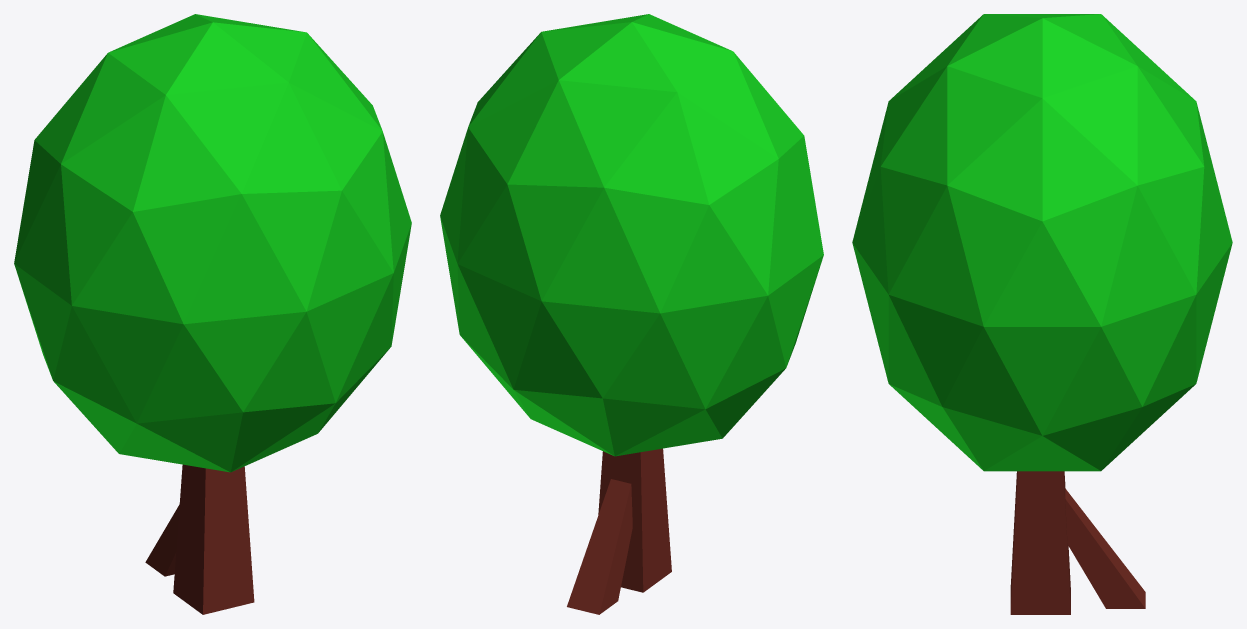
Rendered from tree_2.fbx.
The picture shows the model from 3 angles, left to right: view 1: azimuth 30°, elevation 25°; view 2: azimuth 150°, elevation 25°; view 3: azimuth 270°, elevation 25°; orthographic projection. The views are drawn at different scales.
Visible parts, largest first — view 1: Cube; view 2: Cube; view 3: Cube.
Part boxes in pixels (bbox=[...]): Cube: bbox=[14, 14, 411, 614]; Cube: bbox=[440, 14, 823, 614]; Cube: bbox=[852, 14, 1232, 614].
Bounding box in the file's own units: 534 × 863 × 509.
